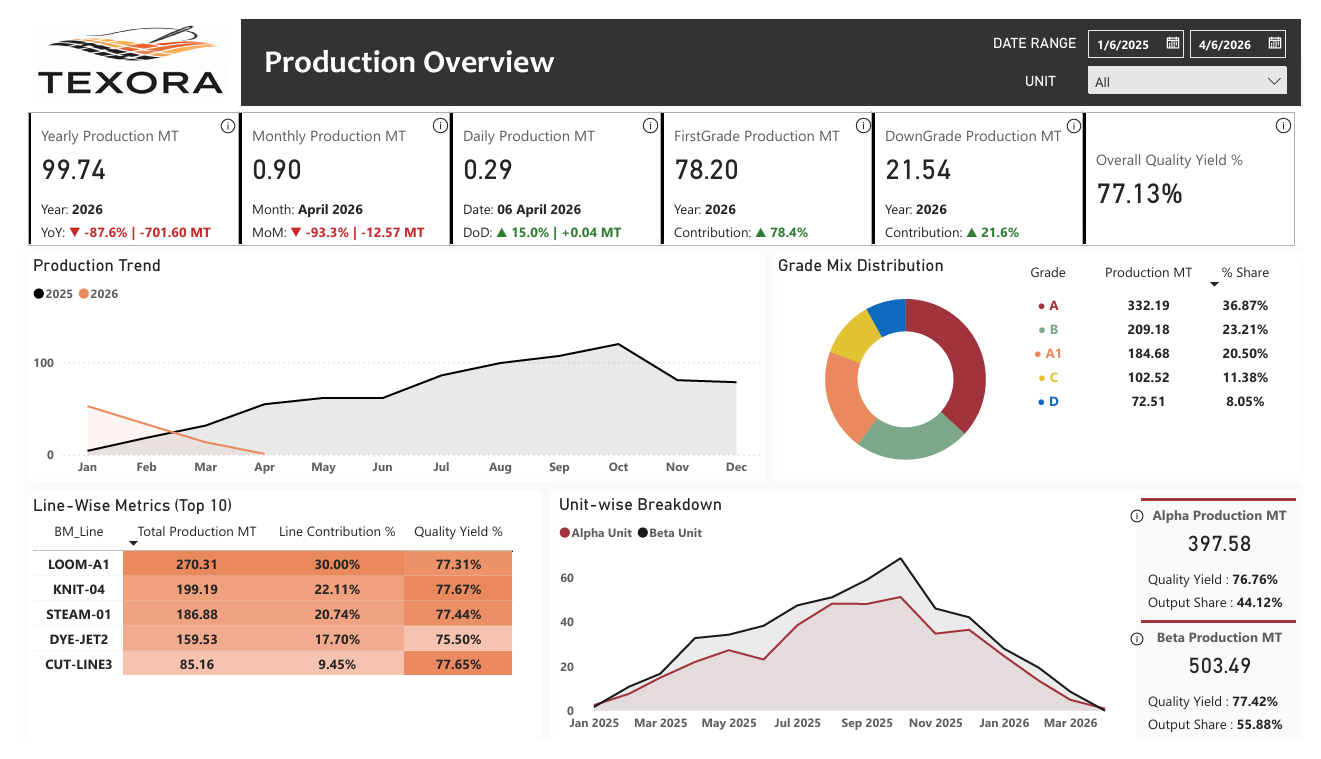

This screenshot's page, from the dashboard's own definition file:
{"tool":"powerbi","page":{"name":"Production","canvas":[1280,720],"ordinal":0},"visuals":[{"type":"shape","box":[218.6,0,1060.6,87.4],"z":0},{"type":"textbox","box":[236.4,0,623.4,87.4],"z":1000},{"type":"cardVisual","fields":{"Data":["DAX.YTD Production","DAX.MTD Production","DAX.Latest Day Production","DAX.First Grade YTD MT","DAX.Downgrade YTD MT","DAX.Quality Yield %"]},"box":[0,87.4,1280.8,144.1],"z":2000},{"type":"shape","box":[5,231.7,737.5,231.7],"z":3000},{"type":"lineChart","title":"Production Trend","fields":{"Y":["DAX.Total Production MT"],"Category":["Date Table.Month"],"Series":["Date Table.Year"]},"box":[4.9,234.8,736.7,229.9],"z":4000},{"type":"shape","box":[4.7,470,514.7,250.7],"z":5000},{"type":"tableEx","title":"Line-Wise Metrics (Top 10)","fields":{"Values":["Production.BM_Line","DAX.Total Production MT","DAX.Line Contribution %","DAX.Quality Yield %"]},"box":[4.7,474.7,507.3,245.3],"z":6000},{"type":"shape","box":[527.2,469.4,752.2,251.1],"z":7000},{"type":"lineChart","title":"Unit-wise Breakdown","fields":{"Y":["DAX.Total Production MT"],"Series":["Production.Location Name"],"Category":["Date Table.Date.Variation.Date Hierarchy.Year","Date Table.Date.Variation.Date Hierarchy.Month"]},"box":[531.1,474.4,582.9,246.1],"z":8000},{"type":"cardVisual","fields":{"Data":["Location.Dahej Production MT","Location.Dadra Production MT"]},"box":[1114,474.4,165.2,246.1],"z":9000},{"type":"shape","box":[749.7,231.5,529.5,231.5],"z":10000},{"type":"donutChart","title":"Grade Mix Distribution","fields":{"Y":["DAX.Total Production MT"],"Category":["Production.Grade Color Label"]},"box":[749.7,234.8,265.6,229.9],"z":11000},{"type":"tableEx","fields":{"Values":["Production.Grade Color Label","DAX.Total Production MT","DAX.Grade Share %"]},"box":[974.8,234.8,306,229.9],"z":12000},{"type":"slicer","fields":{"Values":["Date Table.Date"]},"box":[1052.4,0,225.3,44.7],"z":13000},{"type":"slicer","fields":{"Values":["Production.Location Name"]},"box":[1056.2,37.1,217.6,39.5],"z":14000},{"type":"textbox","box":[965,8.7,120.8,32],"z":15000},{"type":"textbox","box":[997.1,46.6,136.8,30.6],"z":16000},{"type":"actionButton","box":[1039.4,93.5,25.3,24.1],"z":18000},{"type":"actionButton","box":[1247.6,92.9,26.5,24.7],"z":19000},{"type":"actionButton","box":[827.6,92.9,26.5,24.7],"z":20000},{"type":"actionButton","box":[614.7,92.9,25.9,24.7],"z":21000},{"type":"actionButton","box":[405.3,92.9,25.9,24.7],"z":22000},{"type":"actionButton","box":[192.9,93.5,25.9,24.7],"z":23000},{"type":"actionButton","box":[1103,482.6,21.8,26.7],"z":24000},{"type":"actionButton","box":[1103,604.9,21.8,26.7],"z":25000},{"type":"image","box":[6.5,0,205.6,47],"z":25001},{"type":"image","box":[6.5,37.2,202.4,50.2],"z":25002}]}

Visuals, with their boxes in screenshot pixels (x1, y1, x2, y2), scaled from the page's 1280x720 canvas onto the 1321x759 screenshot:
shape: Rect(226, 0, 1320, 92)
textbox: Rect(244, 0, 887, 92)
cardVisual - DAX.YTD Production x DAX.MTD Production: Rect(0, 92, 1320, 244)
shape: Rect(5, 244, 766, 489)
"Production Trend" lineChart: Rect(5, 248, 765, 490)
shape: Rect(5, 495, 536, 758)
"Line-Wise Metrics (Top 10)" tableEx: Rect(5, 500, 528, 758)
shape: Rect(544, 495, 1320, 758)
"Unit-wise Breakdown" lineChart: Rect(548, 500, 1150, 758)
cardVisual - Location.Dahej Production MT x Location.Dadra Production MT: Rect(1150, 500, 1320, 758)
shape: Rect(774, 244, 1320, 488)
"Grade Mix Distribution" donutChart: Rect(774, 248, 1048, 490)
tableEx - Production.Grade Color Label x DAX.Total Production MT: Rect(1006, 248, 1320, 490)
slicer - Date Table.Date: Rect(1086, 0, 1319, 47)
slicer - Production.Location Name: Rect(1090, 39, 1315, 81)
textbox: Rect(996, 9, 1121, 43)
textbox: Rect(1029, 49, 1170, 81)
actionButton: Rect(1073, 99, 1099, 124)
actionButton: Rect(1288, 98, 1315, 124)
actionButton: Rect(854, 98, 881, 124)
actionButton: Rect(634, 98, 661, 124)
actionButton: Rect(418, 98, 445, 124)
actionButton: Rect(199, 99, 226, 125)
actionButton: Rect(1138, 509, 1161, 537)
actionButton: Rect(1138, 638, 1161, 666)
image: Rect(7, 0, 219, 50)
image: Rect(7, 39, 216, 92)
